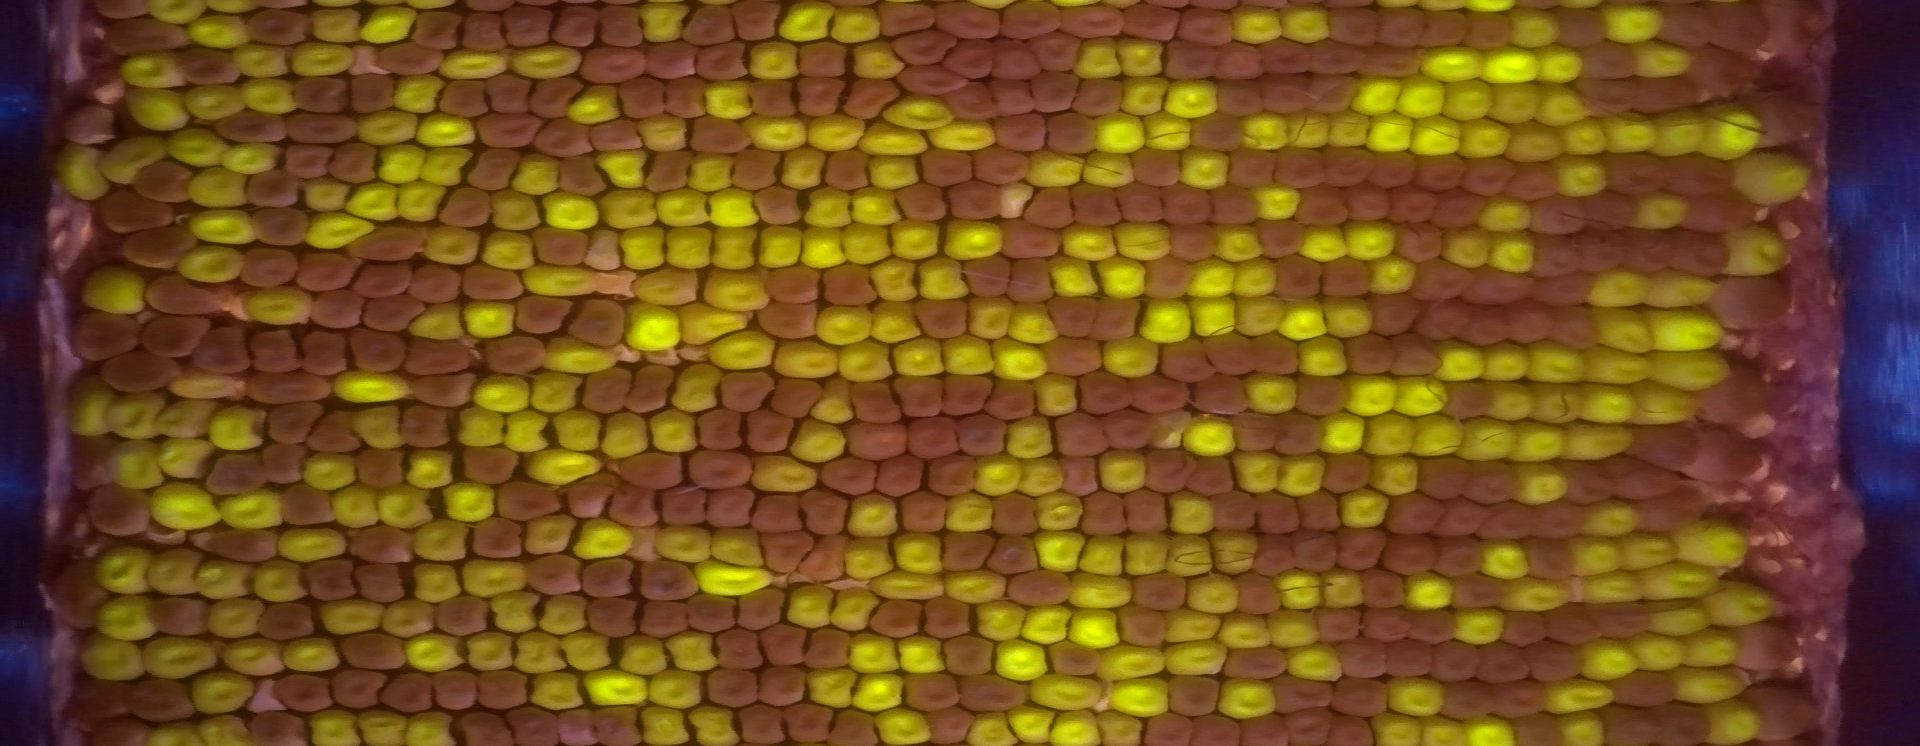fluorescent: (1734, 149, 1811, 198), (78, 266, 149, 317), (1673, 517, 1745, 567), (1648, 352, 1731, 392), (151, 480, 219, 529), (1704, 107, 1762, 164), (1723, 225, 1784, 279), (1653, 305, 1723, 352), (1629, 383, 1702, 428), (69, 372, 118, 436), (93, 592, 157, 641), (1706, 577, 1769, 626), (103, 390, 163, 441), (700, 272, 771, 315), (54, 145, 110, 198), (246, 282, 315, 326), (770, 338, 839, 382), (680, 300, 749, 343), (333, 367, 409, 407), (540, 334, 613, 375), (143, 633, 211, 677), (103, 137, 167, 184), (1580, 345, 1651, 387), (1564, 418, 1629, 463), (1640, 560, 1717, 598), (622, 303, 680, 353), (525, 446, 599, 485), (1030, 669, 1098, 710), (1598, 306, 1653, 358), (108, 439, 165, 488), (94, 549, 152, 598), (1674, 668, 1747, 706), (302, 211, 373, 250), (1439, 80, 1498, 126), (1103, 336, 1162, 382), (751, 452, 818, 492), (1440, 223, 1495, 272), (290, 40, 359, 80), (167, 125, 224, 171), (789, 419, 846, 465), (993, 639, 1056, 682), (81, 637, 144, 679), (708, 332, 778, 370), (189, 165, 249, 209), (1296, 334, 1356, 379), (131, 92, 192, 135), (276, 527, 349, 562), (697, 560, 768, 597), (1544, 675, 1618, 710), (196, 559, 253, 604), (249, 557, 306, 603), (218, 492, 287, 530), (1588, 267, 1651, 309), (480, 228, 539, 272), (478, 372, 536, 416), (1213, 677, 1273, 720), (524, 263, 599, 298), (845, 537, 901, 582), (942, 216, 1003, 257), (584, 668, 649, 707), (1106, 677, 1171, 717), (224, 637, 287, 677), (1114, 222, 1173, 265), (186, 208, 255, 245), (600, 413, 653, 461), (1529, 337, 1583, 383), (913, 257, 969, 303), (1605, 4, 1662, 48), (1502, 577, 1572, 612), (1025, 147, 1086, 187), (849, 184, 906, 227), (943, 332, 1000, 375), (1098, 254, 1149, 303), (148, 549, 200, 597), (1093, 114, 1146, 160), (408, 303, 470, 342), (206, 405, 264, 447), (885, 98, 954, 134), (176, 246, 245, 282), (119, 50, 179, 91), (1555, 152, 1611, 195), (1581, 497, 1637, 540), (1578, 383, 1640, 423), (632, 271, 699, 306), (1138, 298, 1190, 343), (1461, 418, 1513, 463), (1581, 637, 1633, 682), (863, 121, 928, 158), (1651, 111, 1704, 156), (711, 528, 765, 572), (1387, 677, 1446, 718), (771, 2, 834, 40), (1343, 374, 1398, 416), (1649, 271, 1718, 305), (444, 48, 516, 81), (647, 671, 703, 713), (463, 557, 527, 594), (1647, 598, 1711, 635), (648, 410, 699, 456), (242, 75, 300, 115), (662, 227, 715, 271), (443, 480, 496, 524), (845, 492, 898, 537), (1318, 413, 1370, 457), (1532, 383, 1584, 428), (1517, 462, 1570, 506), (1613, 537, 1678, 572), (1229, 4, 1284, 45), (1349, 72, 1404, 114), (489, 191, 544, 233), (814, 303, 869, 344), (1270, 608, 1325, 649), (1703, 701, 1758, 742), (329, 481, 378, 528), (671, 363, 718, 412), (1513, 416, 1562, 463), (376, 488, 432, 528), (204, 598, 261, 638), (1007, 300, 1057, 345), (160, 436, 211, 481), (973, 597, 1024, 642), (1511, 122, 1562, 167), (1278, 454, 1330, 499), (1188, 294, 1240, 337), (413, 523, 470, 562), (893, 533, 947, 575), (1273, 570, 1327, 611), (343, 183, 398, 223), (529, 670, 584, 710), (309, 706, 364, 746), (1393, 377, 1449, 418), (850, 628, 899, 674), (944, 491, 993, 537), (973, 454, 1024, 499), (1411, 412, 1461, 456), (807, 118, 863, 157), (1490, 88, 1547, 127), (869, 303, 921, 345), (411, 560, 464, 601), (561, 628, 613, 670), (803, 668, 856, 709), (181, 17, 247, 50), (839, 342, 893, 382), (756, 225, 803, 271), (304, 9, 362, 45), (1462, 119, 1511, 163), (893, 334, 948, 374), (1007, 414, 1056, 458), (156, 399, 211, 439), (354, 403, 403, 447), (656, 523, 711, 562), (1020, 454, 1069, 499), (1605, 113, 1656, 156), (1166, 532, 1216, 575), (1404, 570, 1455, 612), (1068, 575, 1133, 608), (1164, 641, 1227, 675), (193, 673, 250, 710), (1058, 223, 1118, 258), (425, 225, 478, 266), (1245, 372, 1298, 413), (511, 632, 564, 671), (876, 707, 929, 746), (1479, 197, 1533, 236), (1123, 532, 1169, 577), (1189, 255, 1236, 300), (320, 601, 386, 633), (1281, 296, 1329, 341), (1326, 294, 1370, 342), (571, 83, 620, 126), (602, 194, 664, 228), (620, 227, 669, 269), (945, 567, 1007, 601), (1098, 450, 1147, 492), (1682, 630, 1738, 668), (302, 176, 353, 218), (890, 220, 940, 262), (993, 337, 1043, 379), (853, 674, 904, 715), (1344, 223, 1395, 265), (748, 114, 807, 149), (361, 9, 413, 49), (1142, 115, 1194, 156), (1365, 111, 1417, 152), (867, 152, 918, 192), (1103, 644, 1166, 677), (529, 372, 582, 412), (405, 450, 458, 489), (1233, 256, 1278, 301), (709, 225, 756, 269), (743, 40, 797, 78), (1081, 151, 1135, 189), (1288, 644, 1342, 682), (1583, 572, 1641, 608), (1166, 77, 1215, 119), (842, 225, 891, 267), (1180, 149, 1229, 191), (834, 4, 884, 44), (1185, 416, 1236, 457), (1420, 48, 1484, 80), (359, 108, 414, 145), (1484, 49, 1543, 83), (803, 187, 855, 227), (1168, 606, 1220, 646), (1185, 576, 1237, 615), (234, 44, 290, 80), (463, 303, 516, 341), (1212, 227, 1265, 265), (502, 412, 549, 454), (489, 592, 536, 633), (834, 584, 876, 632), (1341, 488, 1389, 529), (517, 45, 582, 76), (1078, 37, 1127, 77), (421, 147, 470, 187), (456, 409, 509, 446), (620, 635, 669, 675), (578, 521, 632, 557), (1078, 537, 1127, 577), (405, 633, 463, 668), (1369, 454, 1419, 494), (302, 454, 358, 490), (1633, 636, 1689, 671), (170, 370, 234, 401), (876, 260, 920, 304), (702, 76, 747, 119), (527, 514, 573, 556), (1286, 111, 1338, 148), (655, 189, 708, 225), (186, 83, 242, 118), (555, 412, 602, 452), (692, 706, 740, 746), (1572, 537, 1620, 577), (1051, 257, 1100, 296), (1069, 608, 1118, 647), (1236, 295, 1284, 334), (1365, 414, 1414, 453), (1479, 540, 1528, 579), (280, 639, 343, 670), (389, 76, 440, 114), (538, 597, 588, 635), (1022, 608, 1073, 646), (223, 143, 280, 176), (508, 156, 560, 192), (800, 228, 845, 269), (687, 152, 733, 192), (670, 632, 718, 671), (544, 198, 596, 234), (1242, 111, 1291, 149), (1033, 532, 1082, 570), (1251, 183, 1300, 220), (1438, 342, 1487, 380), (873, 571, 945, 597), (1116, 78, 1166, 115), (708, 189, 758, 225), (1483, 344, 1533, 381), (936, 126, 996, 157), (1562, 115, 1605, 158), (778, 147, 820, 190), (899, 635, 942, 677), (1490, 233, 1534, 274), (1536, 85, 1581, 125), (380, 142, 425, 183), (851, 44, 902, 80), (640, 707, 687, 746), (409, 708, 457, 746), (1455, 608, 1502, 646), (400, 183, 443, 224), (1640, 45, 1693, 78), (969, 296, 1013, 337), (1038, 494, 1082, 534), (1373, 256, 1417, 296), (789, 587, 834, 626), (1211, 537, 1258, 575), (1487, 382, 1533, 420), (1416, 118, 1463, 154), (418, 116, 473, 148), (1168, 495, 1216, 532), (1640, 195, 1689, 230), (1224, 615, 1273, 650), (1236, 453, 1280, 492), (1463, 712, 1513, 746), (467, 635, 513, 671), (1300, 225, 1347, 262), (1051, 713, 1102, 746), (1117, 42, 1164, 77), (1036, 375, 1078, 415), (604, 148, 647, 187), (964, 712, 1013, 746), (1011, 703, 1051, 746), (1515, 11, 1558, 49), (1373, 709, 1418, 745), (1322, 570, 1363, 609), (1281, 9, 1329, 42), (1542, 47, 1578, 89), (359, 712, 403, 746), (1329, 114, 1370, 149), (1417, 717, 1467, 746), (1558, 712, 1600, 746), (644, 111, 682, 148), (1398, 85, 1442, 115), (812, 394, 853, 426)
nonfluorescent: (1695, 352, 1767, 423), (1689, 424, 1764, 486), (98, 352, 191, 399), (1709, 277, 1790, 331), (1749, 687, 1818, 742), (1755, 94, 1823, 148), (87, 480, 149, 537), (1629, 425, 1704, 470), (1633, 488, 1711, 532), (104, 187, 175, 235), (53, 560, 100, 628), (1600, 152, 1671, 197), (1610, 453, 1678, 501), (1681, 190, 1758, 232), (125, 679, 193, 725), (1733, 624, 1798, 673), (1669, 230, 1731, 281), (73, 312, 142, 358), (249, 323, 306, 377), (146, 276, 218, 318), (1665, 151, 1736, 194), (1713, 2, 1769, 56), (122, 227, 189, 272), (108, 20, 186, 58), (206, 527, 282, 566), (1689, 49, 1752, 96), (138, 317, 208, 359), (404, 334, 469, 379), (66, 680, 135, 722), (339, 630, 408, 671), (1769, 2, 1824, 54), (207, 453, 269, 499), (567, 296, 624, 345), (247, 372, 332, 405), (347, 228, 422, 265), (1412, 255, 1473, 300), (348, 328, 407, 375), (459, 260, 523, 303), (287, 111, 358, 149), (196, 327, 253, 374), (620, 451, 686, 491), (798, 489, 851, 539), (753, 301, 820, 341), (921, 593, 976, 641), (213, 111, 287, 147), (1464, 267, 1531, 306), (1079, 367, 1133, 415), (1000, 219, 1060, 262), (718, 372, 778, 415), (683, 452, 756, 488), (468, 149, 525, 194), (282, 486, 339, 530), (958, 677, 1029, 713), (1273, 673, 1332, 715), (620, 72, 672, 120), (493, 481, 560, 519), (760, 530, 814, 577), (1599, 704, 1659, 746), (474, 668, 530, 712), (1218, 647, 1291, 681), (482, 336, 544, 376), (1536, 274, 1603, 311), (1336, 526, 1386, 575), (987, 376, 1040, 423), (1134, 570, 1187, 616), (818, 265, 877, 306), (818, 457, 880, 496), (1493, 680, 1555, 719), (518, 292, 572, 337), (1052, 413, 1106, 458), (893, 31, 959, 67), (916, 296, 971, 341), (568, 475, 623, 519), (178, 47, 238, 87), (580, 45, 644, 83), (272, 674, 336, 712), (703, 668, 767, 706), (1191, 377, 1253, 416), (1272, 252, 1322, 300), (993, 111, 1051, 153), (984, 537, 1042, 578), (1298, 184, 1356, 225), (898, 376, 949, 423), (607, 484, 659, 530), (1549, 305, 1600, 352), (580, 369, 633, 414), (958, 414, 1010, 459), (943, 633, 996, 679), (1272, 146, 1325, 191), (842, 423, 907, 459), (242, 247, 301, 288), (1308, 38, 1367, 78), (1660, 6, 1714, 50), (1545, 604, 1604, 644), (1118, 5, 1180, 43), (353, 524, 415, 562), (249, 9, 309, 48), (1128, 377, 1188, 416), (304, 559, 360, 600), (432, 668, 482, 714), (1419, 453, 1469, 500), (1338, 636, 1389, 682), (1460, 303, 1511, 348), (1049, 334, 1107, 375), (348, 73, 400, 118), (410, 9, 463, 53), (730, 148, 782, 192), (329, 141, 382, 185), (435, 595, 489, 638), (1256, 37, 1310, 80), (1476, 643, 1529, 686), (353, 261, 411, 300), (359, 294, 418, 333), (1330, 677, 1389, 717), (1554, 461, 1613, 500), (1043, 111, 1098, 153), (1531, 642, 1586, 684), (1254, 490, 1302, 538), (458, 10, 507, 56), (1133, 145, 1182, 191), (1469, 461, 1518, 507), (1003, 2, 1063, 40), (1160, 43, 1220, 81), (293, 76, 349, 116), (1167, 677, 1223, 718), (909, 416, 959, 462), (696, 408, 746, 453), (1118, 605, 1168, 650), (378, 40, 444, 75), (594, 4, 645, 48), (358, 562, 409, 606), (1021, 187, 1074, 230), (927, 456, 980, 499), (1536, 235, 1588, 278), (1433, 534, 1485, 577), (478, 113, 539, 149), (636, 560, 697, 597), (1571, 78, 1632, 115), (438, 184, 492, 225), (309, 292, 362, 333), (380, 671, 433, 713), (1387, 491, 1441, 533), (62, 105, 118, 146), (531, 556, 587, 597), (1188, 111, 1243, 152), (1439, 681, 1494, 722), (1613, 673, 1678, 707), (624, 367, 672, 414), (1393, 220, 1441, 267), (1296, 530, 1343, 577), (331, 665, 380, 710), (942, 376, 992, 420), (1248, 333, 1298, 377), (693, 42, 749, 81), (557, 157, 613, 196), (748, 492, 804, 532), (684, 595, 741, 635), (718, 626, 769, 669), (782, 702, 834, 745), (1461, 156, 1512, 198), (1433, 190, 1485, 232), (1276, 413, 1329, 454), (902, 674, 960, 712), (1292, 375, 1349, 413), (304, 252, 358, 293), (408, 265, 462, 305), (1657, 706, 1711, 746), (302, 330, 348, 377), (1576, 232, 1624, 277), (1205, 333, 1253, 379), (842, 78, 898, 118), (823, 149, 872, 194), (253, 207, 309, 246), (533, 227, 588, 266), (1127, 489, 1171, 538), (258, 440, 307, 484), (1343, 334, 1398, 374), (1382, 537, 1438, 576), (798, 77, 849, 120), (744, 78, 795, 121), (464, 443, 514, 486), (942, 532, 992, 575), (1587, 194, 1637, 236), (1158, 337, 1209, 380), (1322, 454, 1373, 497), (1442, 379, 1493, 421), (688, 114, 751, 148), (1092, 296, 1144, 338), (1510, 160, 1561, 202), (877, 454, 929, 495), (306, 412, 359, 452), (1414, 152, 1467, 192), (1008, 258, 1053, 305), (1233, 572, 1280, 617), (1063, 7, 1127, 40), (81, 65, 129, 109), (407, 376, 473, 408), (1226, 145, 1273, 189), (1116, 183, 1164, 225), (662, 486, 711, 529), (763, 625, 812, 668), (1376, 6, 1425, 49), (536, 120, 591, 158), (973, 145, 1029, 183), (73, 437, 111, 492), (758, 668, 813, 706), (1176, 7, 1231, 45), (1031, 32, 1081, 73), (851, 383, 901, 425), (1582, 40, 1632, 82), (896, 181, 948, 222), (1438, 496, 1489, 537), (132, 162, 189, 198), (898, 64, 962, 96), (1553, 7, 1605, 47), (1389, 338, 1441, 377), (940, 2, 1000, 37), (402, 407, 448, 451), (736, 589, 782, 633), (1422, 7, 1468, 51), (1163, 183, 1210, 227), (1533, 497, 1580, 541), (550, 5, 598, 48), (1146, 450, 1194, 492), (996, 496, 1043, 539), (806, 624, 849, 671), (1344, 183, 1392, 225), (1510, 298, 1553, 345), (1300, 489, 1343, 537), (681, 4, 735, 42), (795, 40, 849, 78), (149, 595, 203, 633), (1010, 572, 1068, 608), (1071, 184, 1120, 225), (470, 516, 520, 556), (743, 412, 793, 452), (868, 598, 923, 635), (1413, 300, 1468, 337), (1596, 601, 1651, 638), (438, 80, 490, 119), (1638, 77, 1697, 111), (1209, 187, 1260, 227), (923, 149, 980, 185), (765, 267, 822, 303), (1531, 197, 1587, 233), (263, 402, 316, 440), (582, 559, 634, 597), (1320, 258, 1373, 296), (1082, 491, 1127, 537), (1251, 533, 1297, 577), (1363, 567, 1408, 611), (1371, 293, 1418, 336), (503, 6, 551, 48), (528, 77, 576, 119), (645, 151, 693, 192), (944, 183, 1002, 217), (249, 171, 304, 207), (258, 601, 313, 637), (585, 597, 637, 635), (1168, 225, 1220, 263), (1411, 608, 1462, 646), (1146, 256, 1190, 300), (355, 446, 402, 488), (1325, 147, 1371, 189), (1434, 642, 1480, 684), (735, 1, 782, 42), (1033, 72, 1082, 111), (829, 708, 879, 746), (1326, 9, 1376, 47), (1188, 457, 1238, 495), (1052, 641, 1103, 677), (1392, 183, 1435, 227), (1627, 232, 1669, 277), (992, 77, 1038, 118), (752, 184, 798, 224), (948, 83, 996, 122), (1489, 502, 1537, 541), (1386, 639, 1434, 679), (644, 42, 697, 77), (768, 381, 820, 416), (704, 489, 753, 527), (902, 492, 947, 534), (803, 538, 845, 582), (249, 714, 306, 746), (1058, 457, 1103, 497), (1305, 76, 1351, 116), (1234, 409, 1280, 450), (1363, 42, 1414, 77), (1051, 296, 1097, 336), (512, 707, 558, 746), (1102, 410, 1150, 448), (1498, 612, 1545, 650), (878, 5, 937, 36), (591, 707, 640, 744), (1258, 219, 1307, 256), (1073, 78, 1123, 114), (1452, 575, 1502, 610), (1212, 491, 1258, 530), (485, 73, 531, 111), (1213, 43, 1260, 81), (1527, 540, 1573, 578), (991, 38, 1033, 78), (743, 706, 789, 744), (591, 119, 643, 152), (640, 601, 688, 637), (279, 143, 328, 178), (1258, 76, 1307, 110), (1468, 13, 1512, 51), (1367, 151, 1412, 187), (467, 710, 513, 746), (1313, 610, 1364, 642), (1142, 712, 1190, 746), (947, 39, 989, 77), (1218, 81, 1262, 118), (1362, 608, 1411, 641), (1191, 715, 1247, 745), (557, 707, 599, 745), (1329, 713, 1376, 746), (1288, 710, 1332, 746), (670, 78, 708, 118), (969, 255, 1007, 293), (931, 708, 969, 745), (1240, 719, 1291, 746), (1513, 717, 1556, 746)
